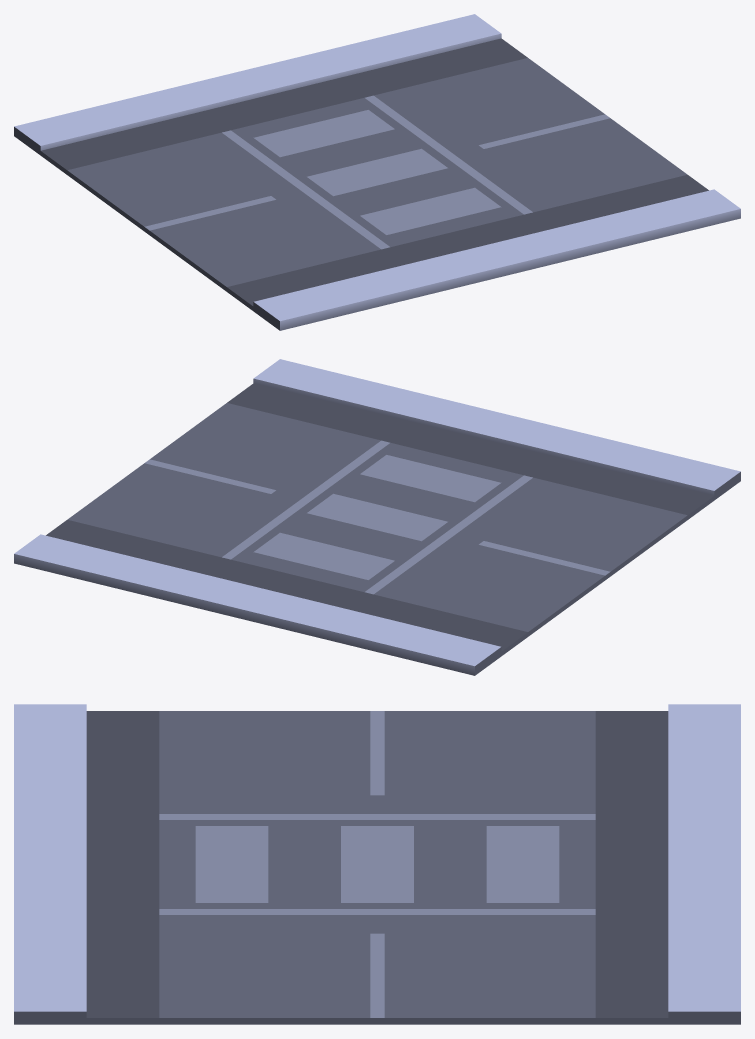
File: road_crossing.glb
3 renders of one model, top to bottom at view 1: azimuth 30°, elevation 25°; view 2: azimuth 150°, elevation 25°; view 3: azimuth 270°, elevation 25°, orthographic. The views are drawn at different scales.
Visible parts, largest first — view 1: road-crossing; view 2: road-crossing; view 3: road-crossing.
Boxes of the visible parts, x1=… form: road-crossing: x1=14, y1=14, x2=740, y2=330; road-crossing: x1=14, y1=359, x2=740, y2=675; road-crossing: x1=14, y1=704, x2=740, y2=1024.
Size of the model in its own units: 6 by 0.12 by 6.
1 material, 1 textured.
